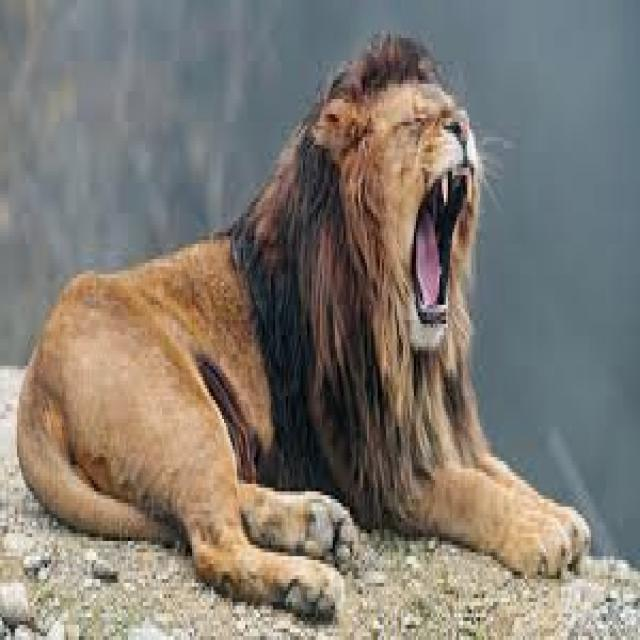lion: (19, 34, 591, 613)
